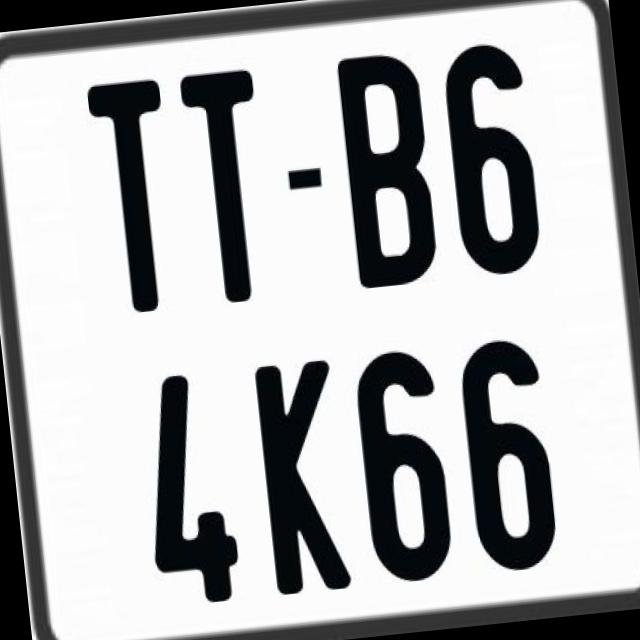4: (134, 367, 244, 609)
6: (438, 35, 546, 281), (348, 347, 456, 586), (455, 332, 562, 572)
B: (332, 46, 438, 292)
K: (252, 357, 353, 603)
T: (83, 78, 186, 324), (178, 68, 274, 306)
